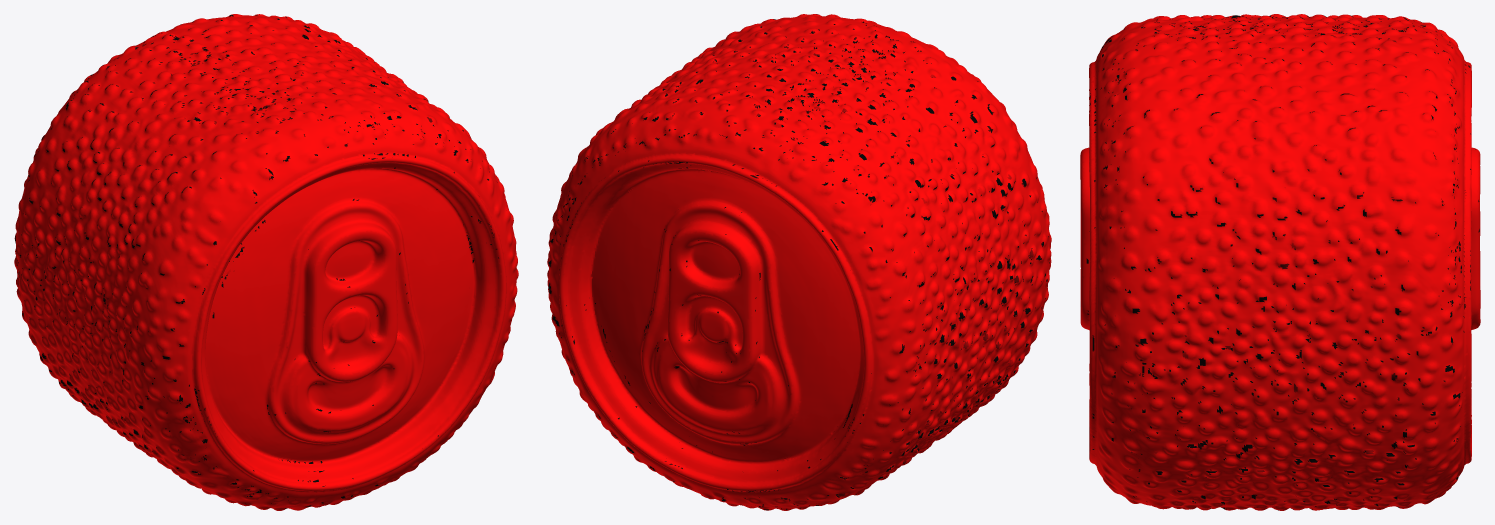
Rendered from scratch_packed_red.glb.
The picture shows the model from 3 angles, left to right: view 1: azimuth 30°, elevation 25°; view 2: azimuth 150°, elevation 25°; view 3: azimuth 270°, elevation 25°; orthographic projection. The views are drawn at different scales.
Visible parts, largest first — view 1: ea547de3-f1f9-4029-86b0-7fdbccea7756.glb; view 2: ea547de3-f1f9-4029-86b0-7fdbccea7756.glb; view 3: ea547de3-f1f9-4029-86b0-7fdbccea7756.glb.
Boxes of the visible parts, box(x1,y1,x2,y2) form: ea547de3-f1f9-4029-86b0-7fdbccea7756.glb: box(14, 14, 518, 510); ea547de3-f1f9-4029-86b0-7fdbccea7756.glb: box(547, 14, 1051, 510); ea547de3-f1f9-4029-86b0-7fdbccea7756.glb: box(1080, 14, 1480, 510).
Size of the model in its own units: 1.99 by 1.99 by 1.64.
Materials: 1 (1 with a texture image).
